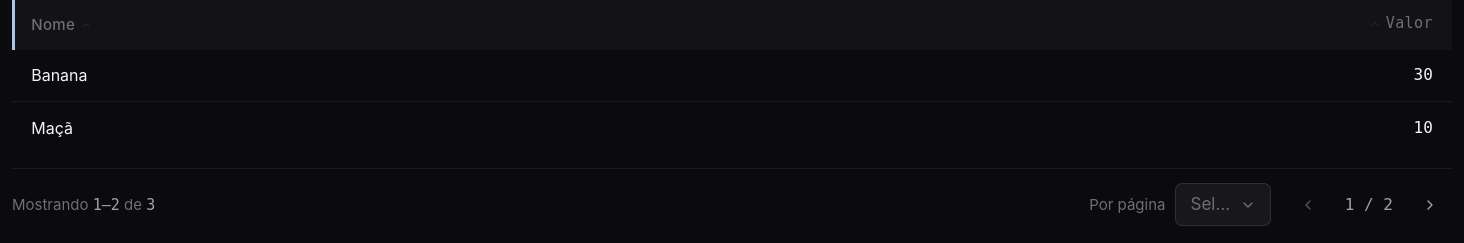
Test: DataTable › pagina os resultados client-side
expect the text "Mostrando 1–2 de 3" is shown: met, box [12,194,155,215]
Click the button named "Próxima página".
click(1430, 205)  # box [1407,188,1452,222]
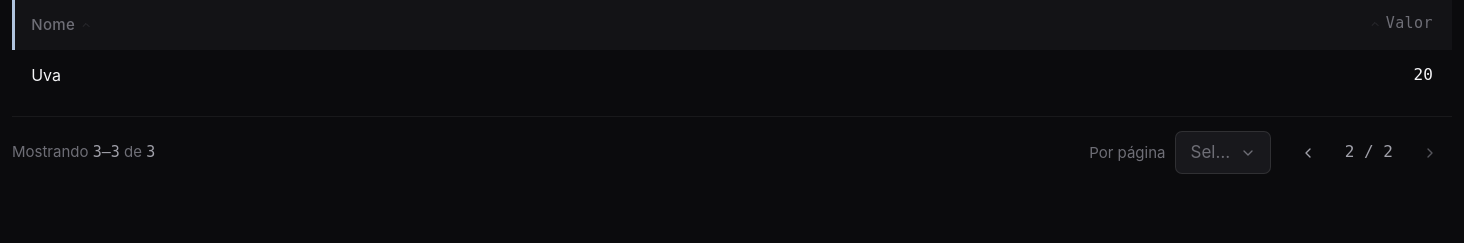
expect the button named "Próxima página" is disabled: met, box [1407,136,1452,169]
expect the text "Mostrando 3–3 de 3" is shown: met, box [12,142,155,163]
